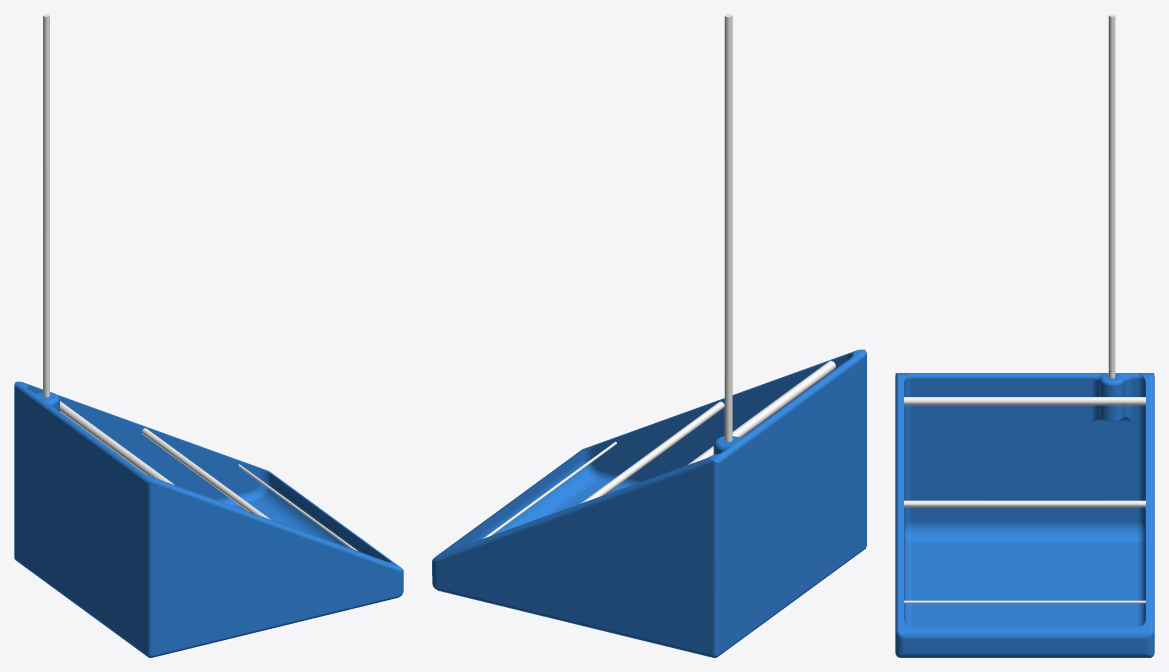
File: Rack.obj
The picture shows the model from 3 angles, left to right: view 1: azimuth 30°, elevation 25°; view 2: azimuth 150°, elevation 25°; view 3: azimuth 270°, elevation 25°; orthographic projection. The views are drawn at different scales.
Parts seen in each view (by area): view 1: Solid1; view 2: Solid1; view 3: Solid1.
Part boxes in pixels (box(x1,y1,x2,y2)): Solid1: box(14, 14, 403, 657); Solid1: box(432, 14, 866, 657); Solid1: box(895, 14, 1154, 657).
Size of the model in its own units: 334 by 690 by 305.
